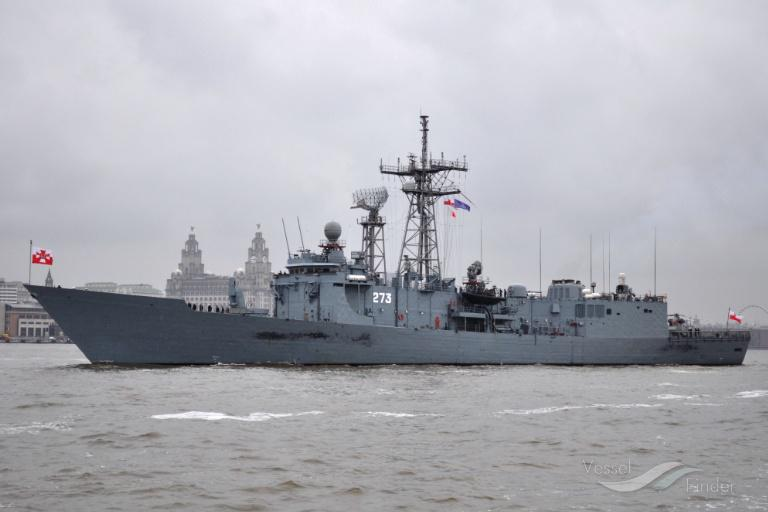OCR: (372, 291, 395, 307)
